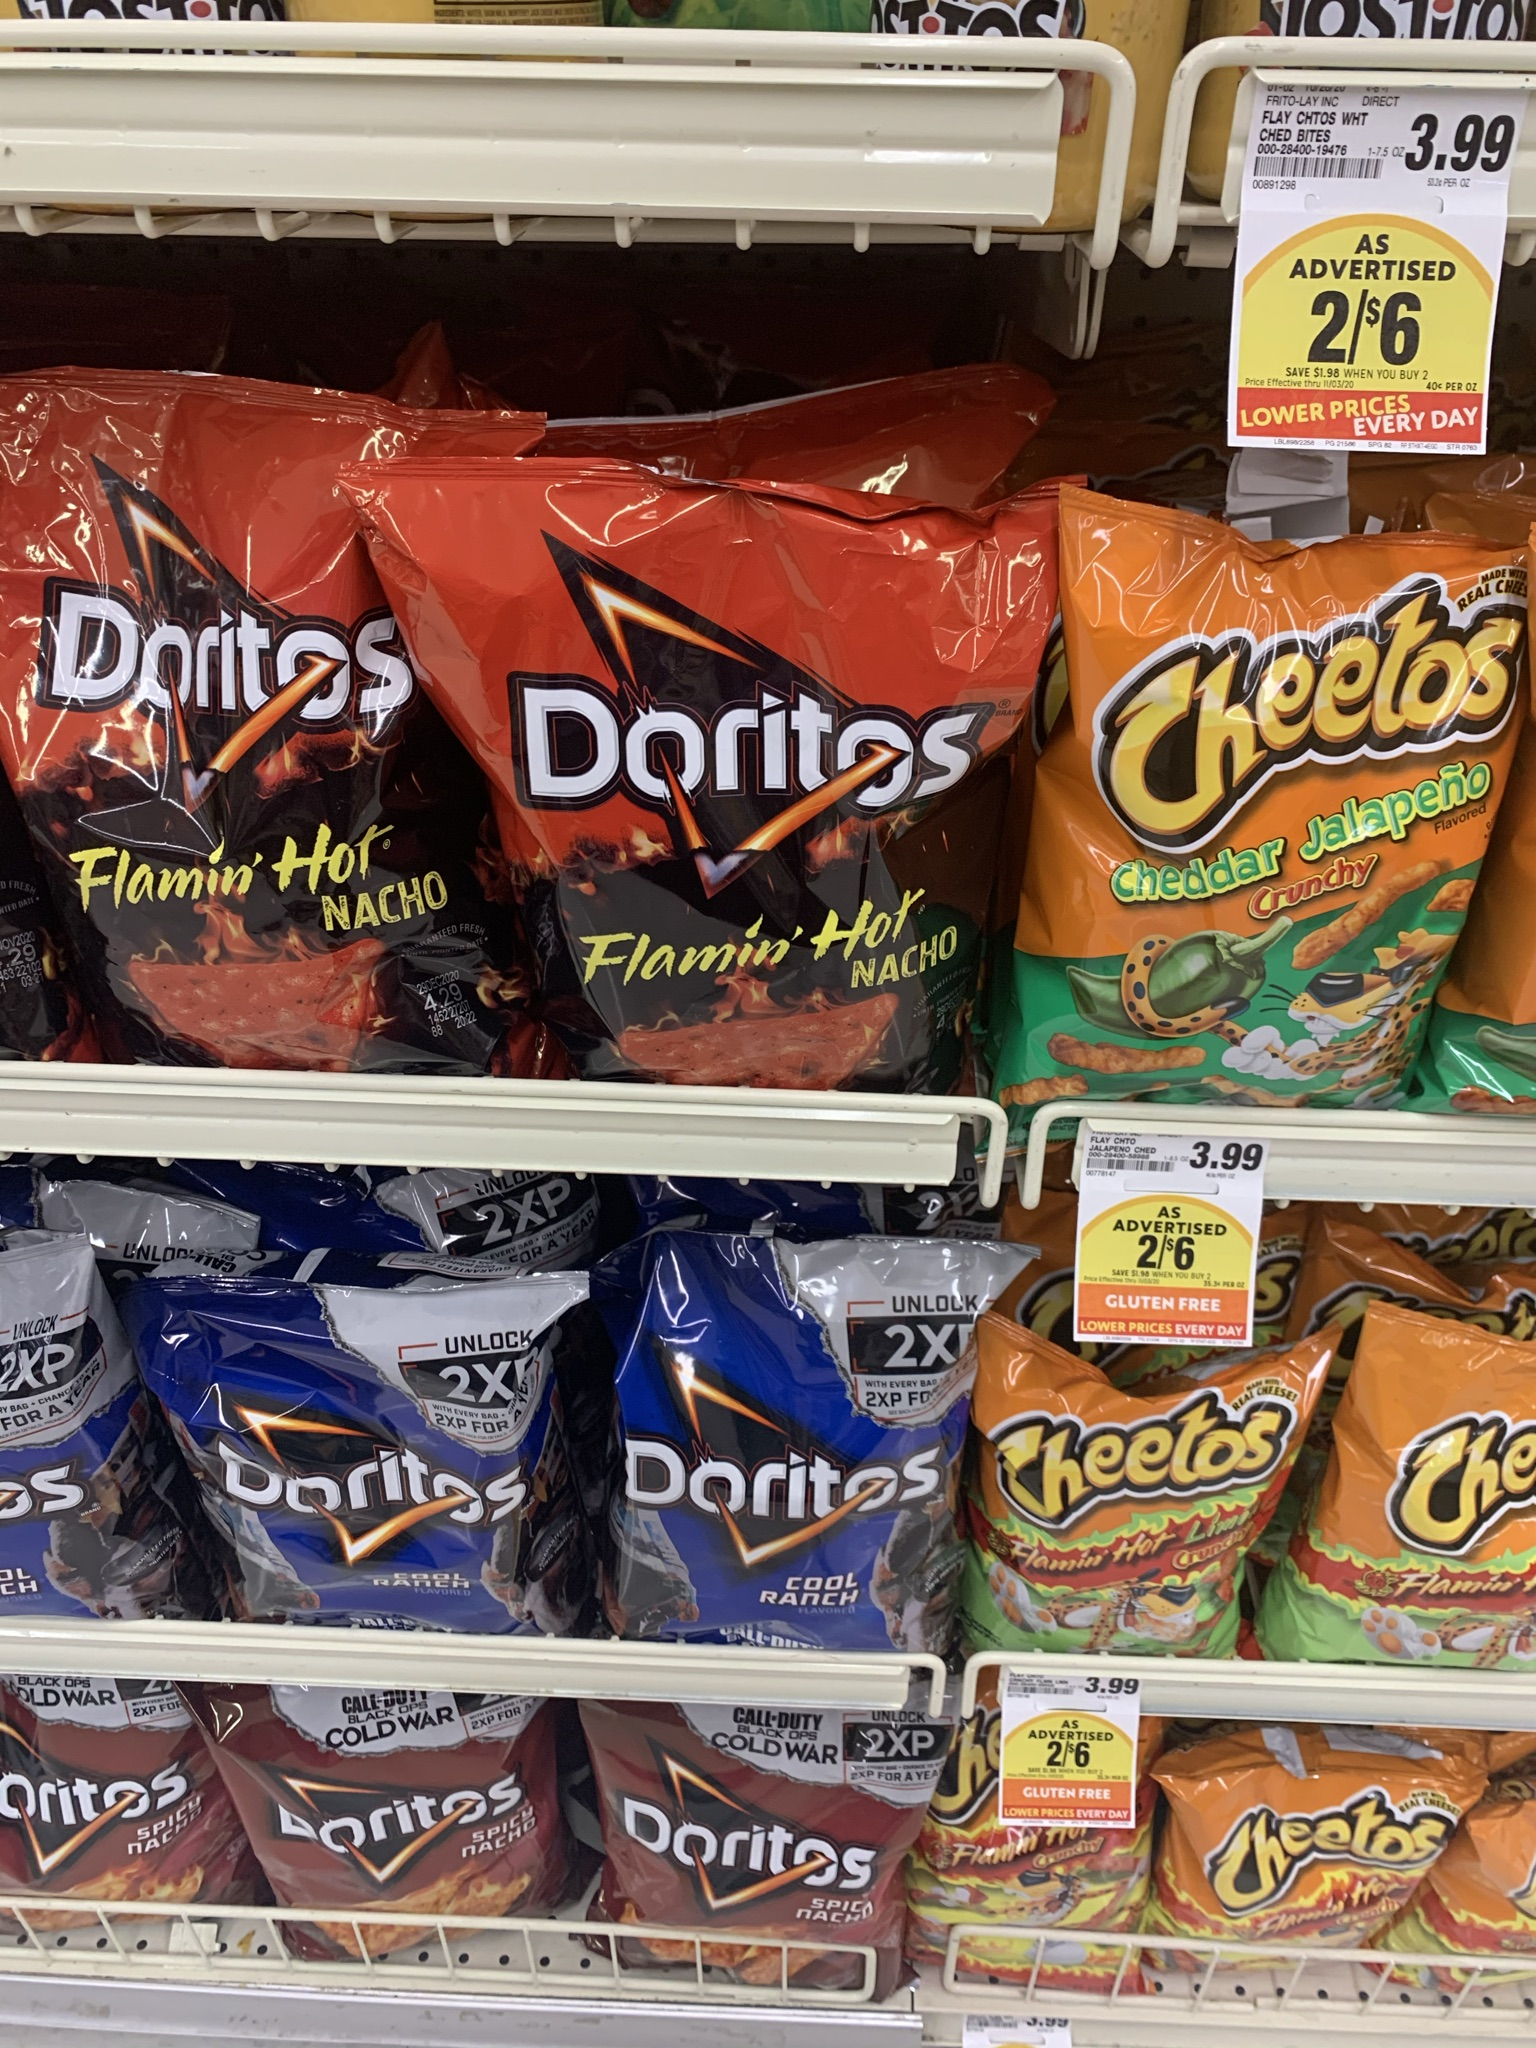Chips: (453, 435, 1004, 1084), (6, 395, 518, 1030), (1041, 511, 1520, 1079), (599, 1229, 975, 1632), (160, 1240, 553, 1622), (966, 1303, 1307, 1646), (574, 1675, 928, 2000), (205, 1684, 578, 1963)
